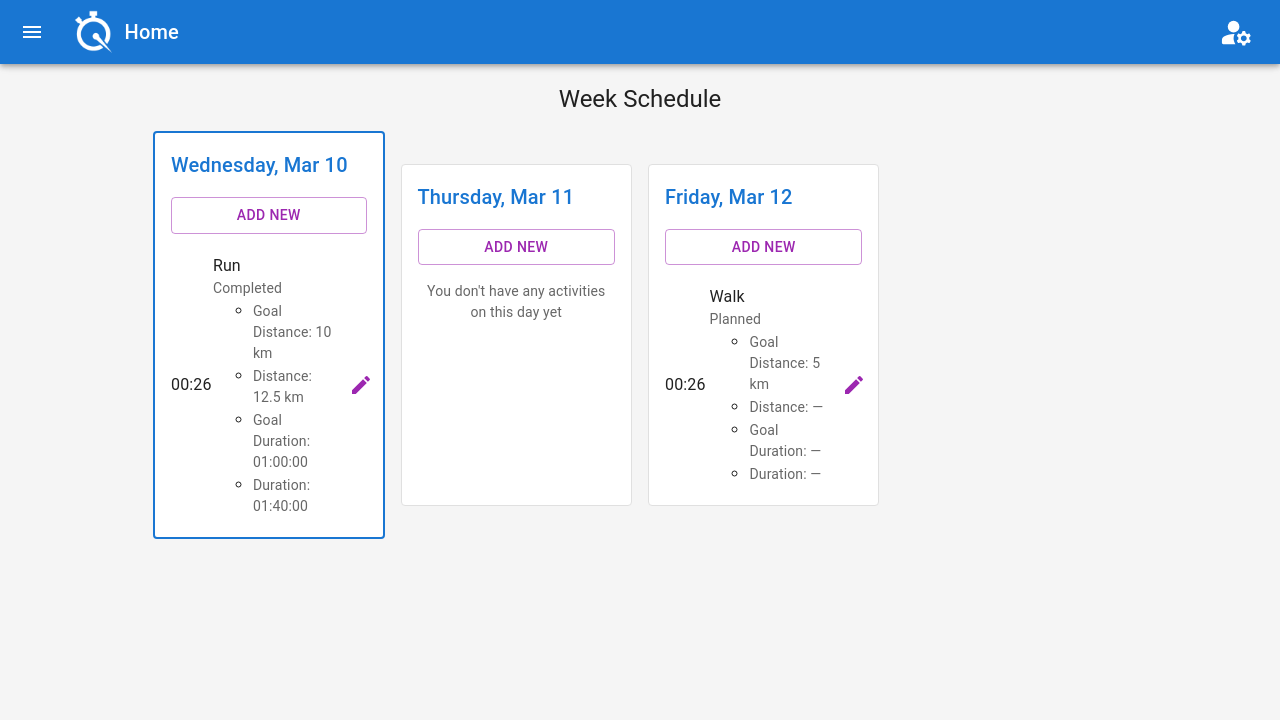
Test case: Home › opens the activity form modal when "Add New" is clicked
What coordinates should you click on to do the following:
click the button "Add New" below "Wednesday, Mar 10"
I would click on:
 (269, 215)
Its box is [171,197,366,234].
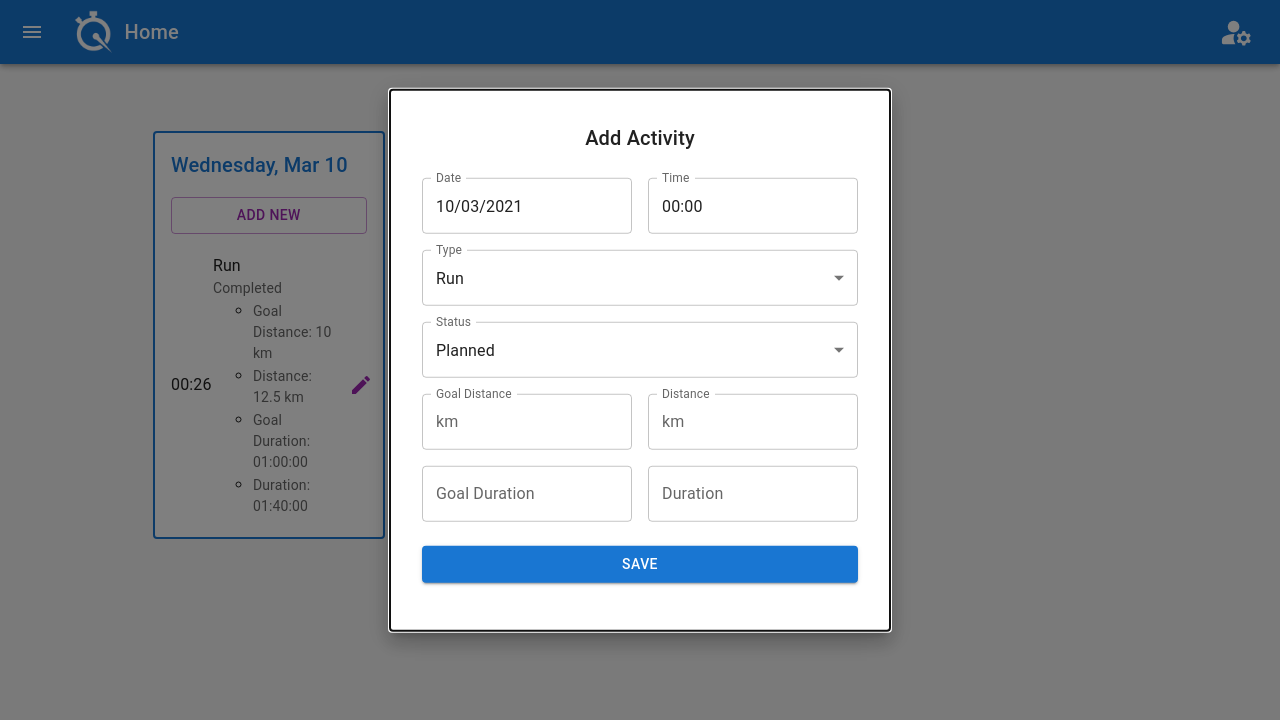
Check: the heading "Add Activity" is shown, box [585,126,695,150]
